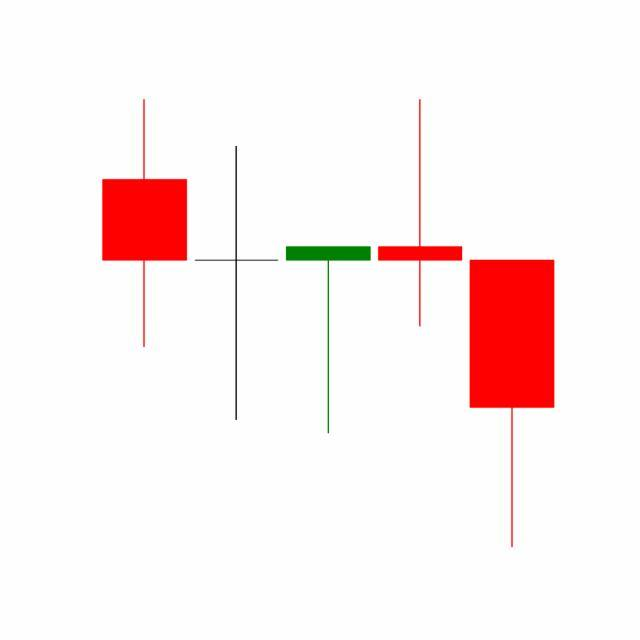Spinning Top: (374, 96, 468, 330)
